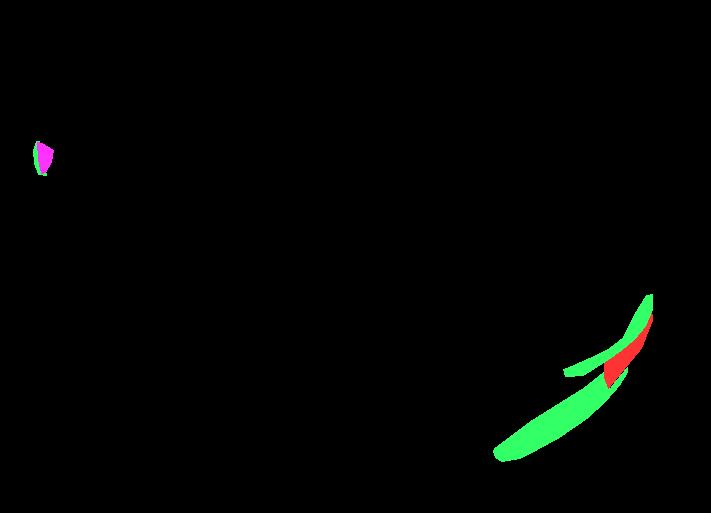Broken part: (493, 367, 627, 461), (563, 294, 652, 376), (33, 141, 46, 175)
Dent: (37, 142, 53, 173)
Missing part: (604, 307, 652, 388)
